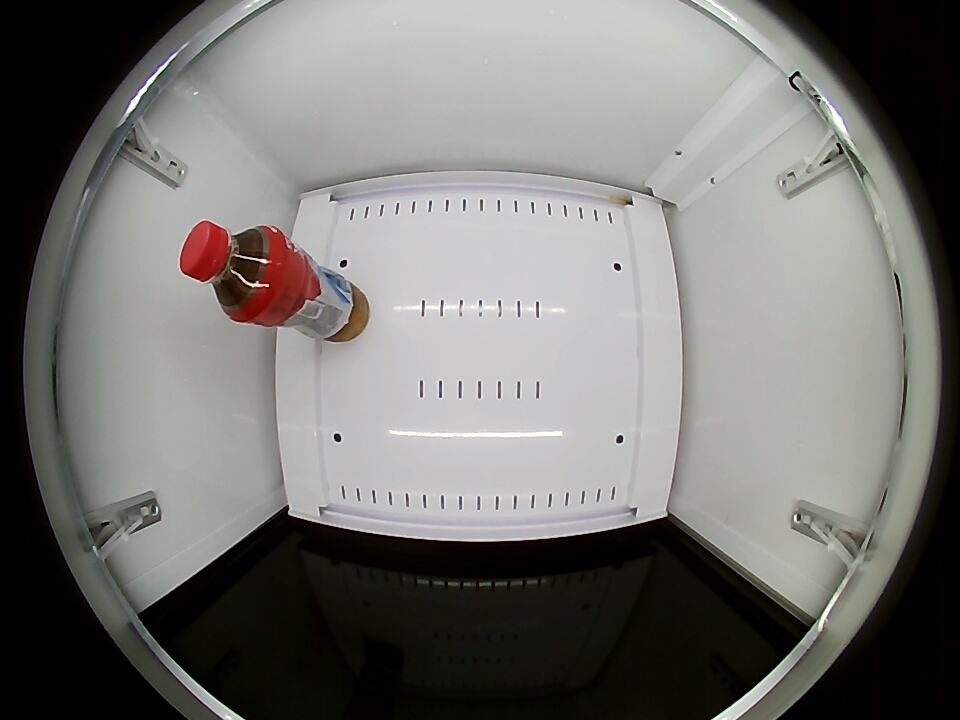binghongcha: (179, 219, 288, 321)
